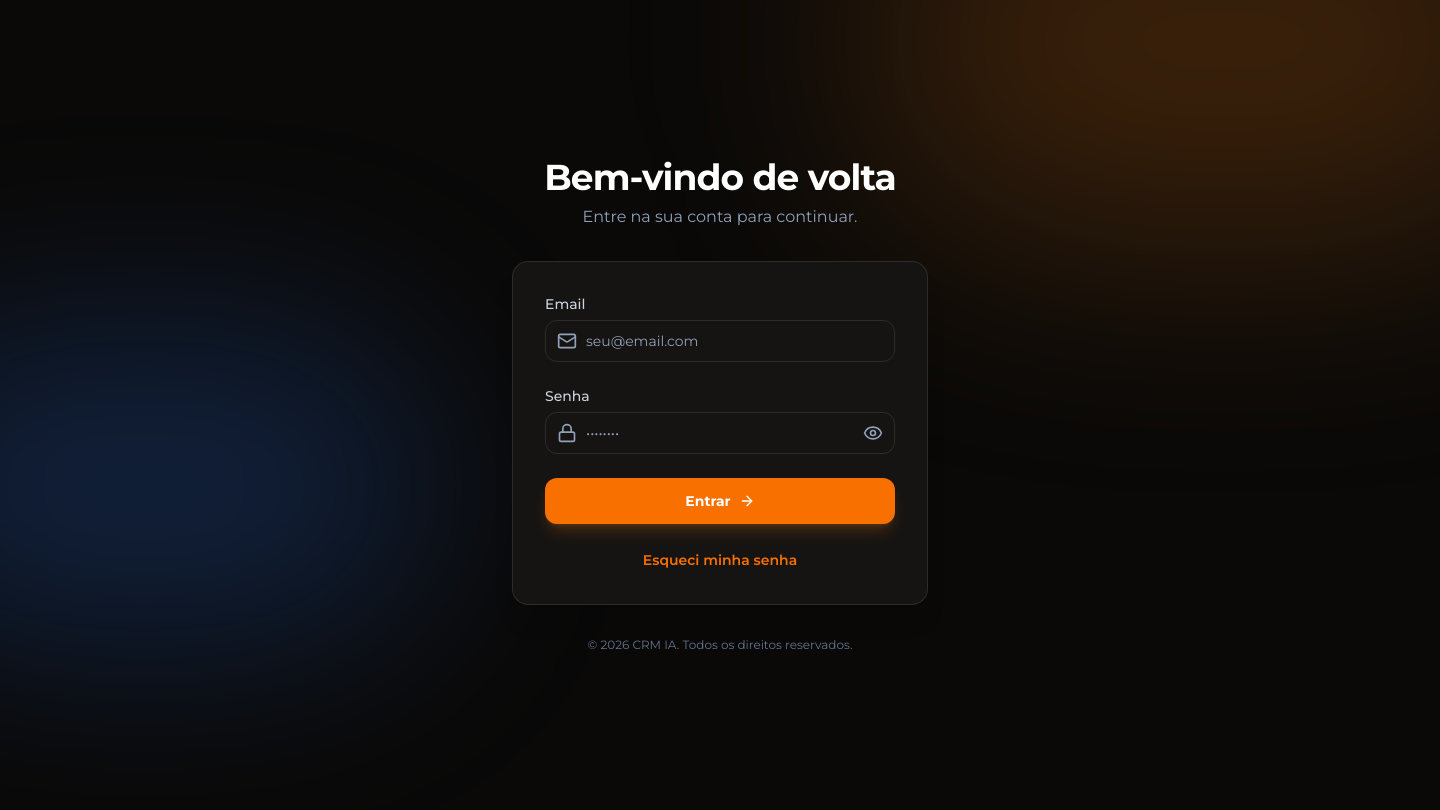
Test: LoginPage — recuperação de senha › no modo recuperar, some o campo de senha e sobra só o email
The width and height of the screenshot is (1440, 810).
Step 1. Click the button "Esqueci minha senha" → (720, 560), box [643,550,797,570]
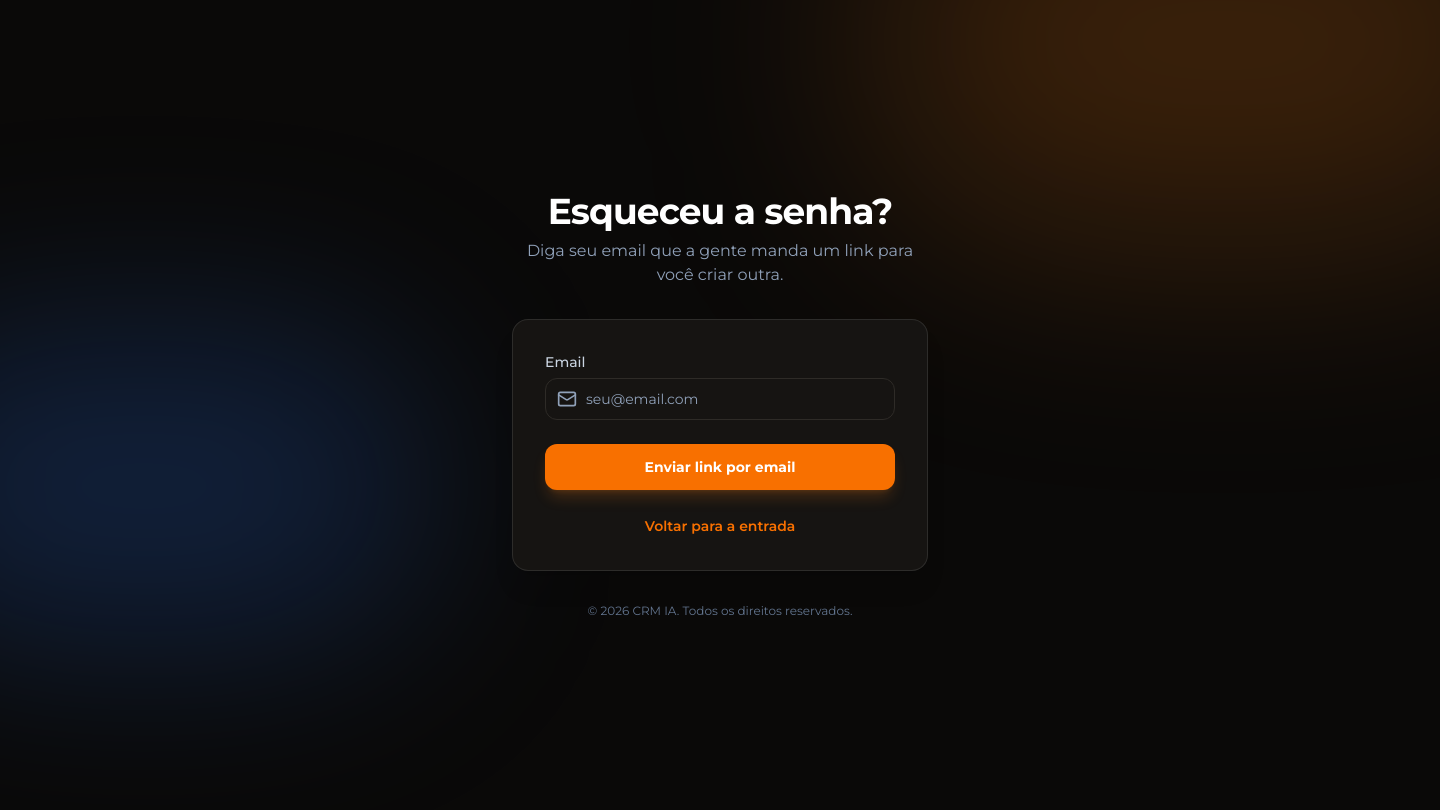
Expected: the field labelled "Email" is shown, [545,378,895,420]
Now the button "Enviar link por email" is shown, box [545,444,895,490]
